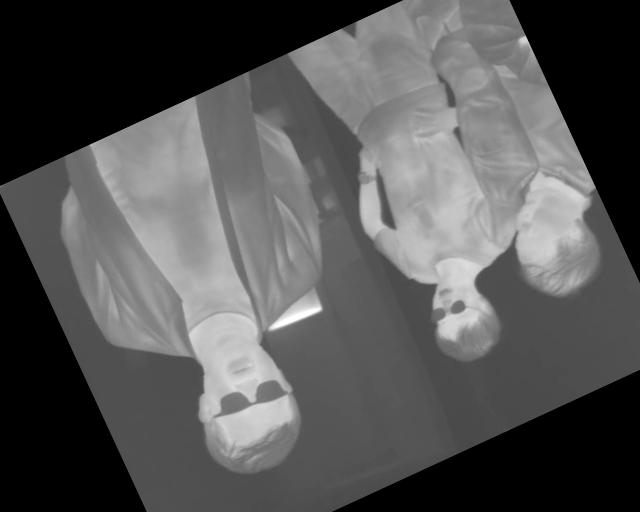face: (169, 323, 320, 491), (490, 171, 616, 313), (412, 264, 513, 374)
